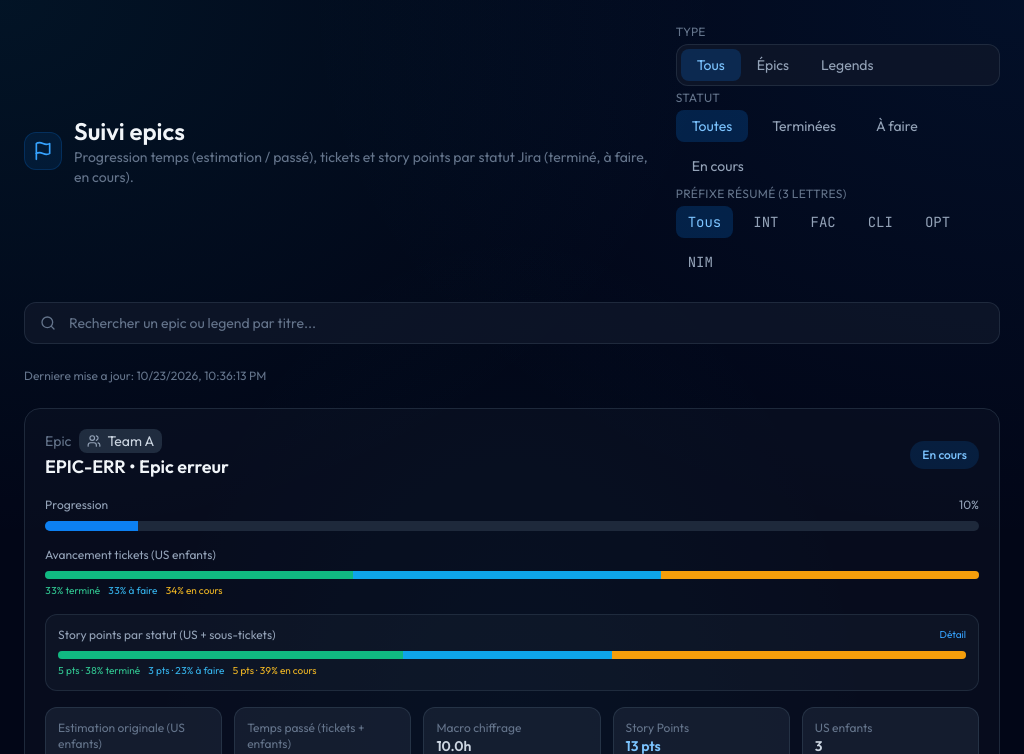
Test: EpicProgressPage › affiche une erreur quand le détail epic échoue
The width and height of the screenshot is (1024, 754).
expect the text "EPIC-ERR • Epic erreur" is shown: met, box [45, 453, 229, 481]
Click the button that starts with "Epic" at (512, 514), box [45, 429, 979, 598]
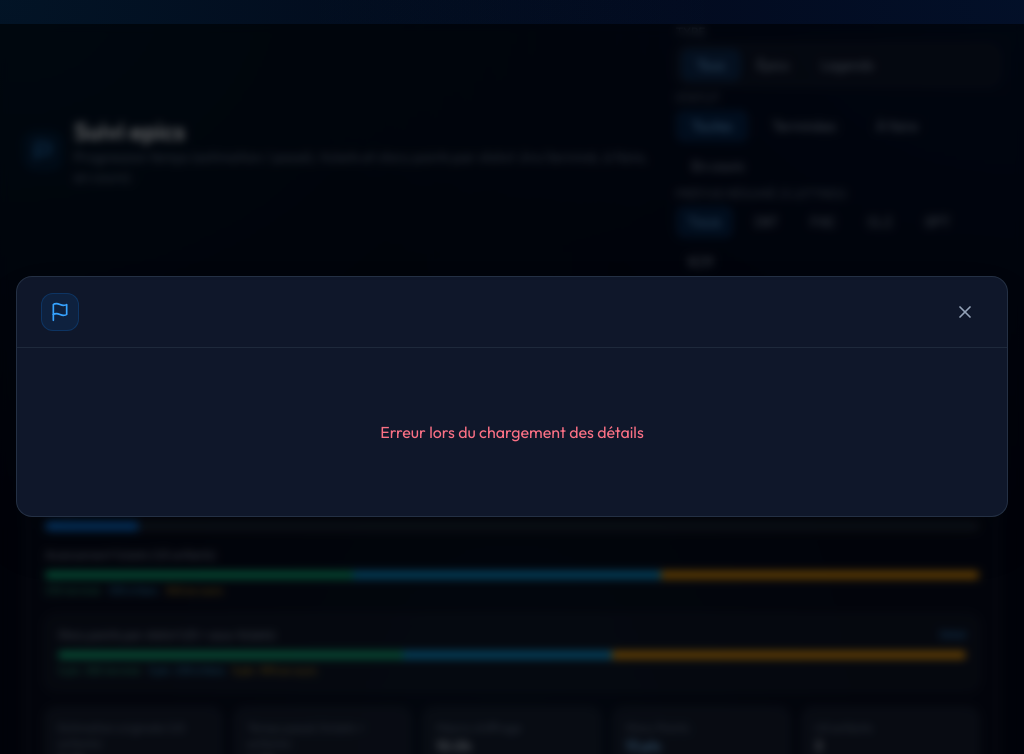
expect the text "Erreur lors du chargement des détails" is shown: met, box [380, 422, 644, 442]
